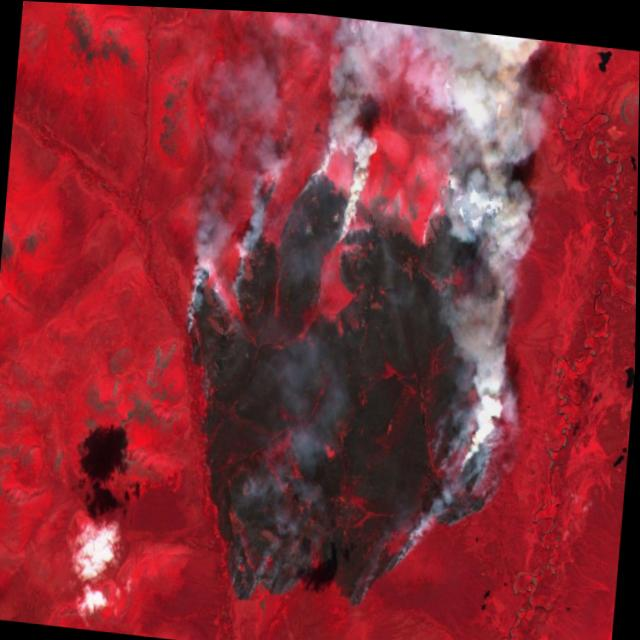fire: (158, 20, 544, 638)
